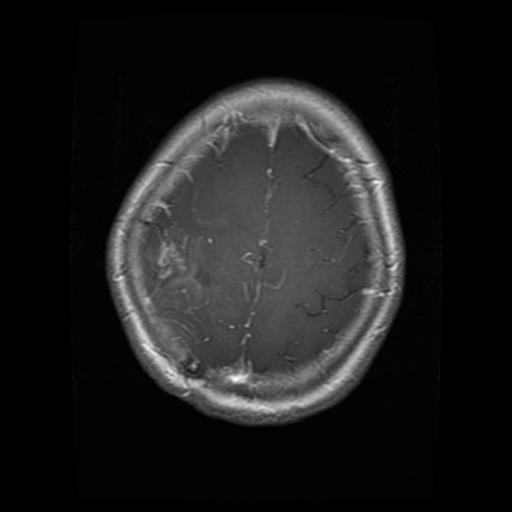Gliomia_tumour: (144, 219, 211, 345)
